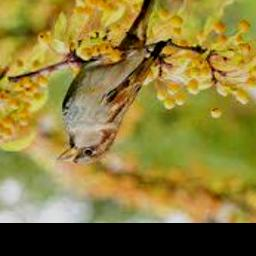Sparrow: (58, 0, 166, 166)
